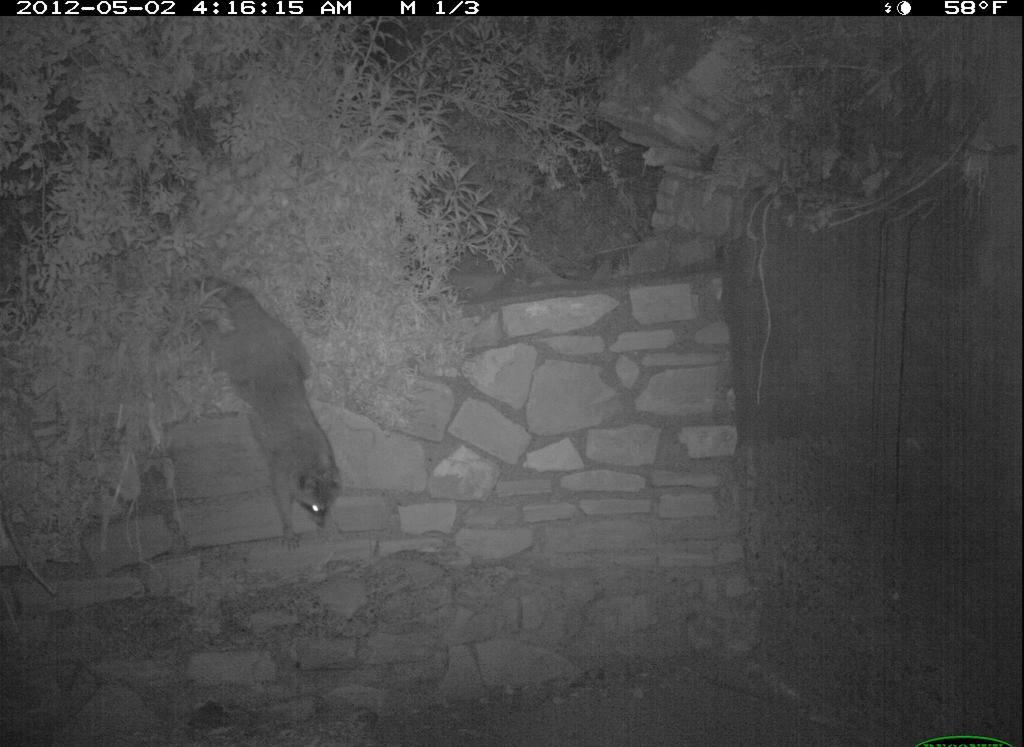raccoon: (172, 263, 370, 565)
